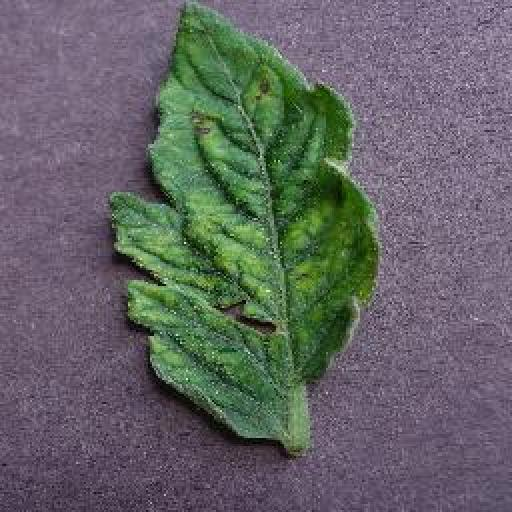Mosaic Virus: (108, 0, 378, 440)
